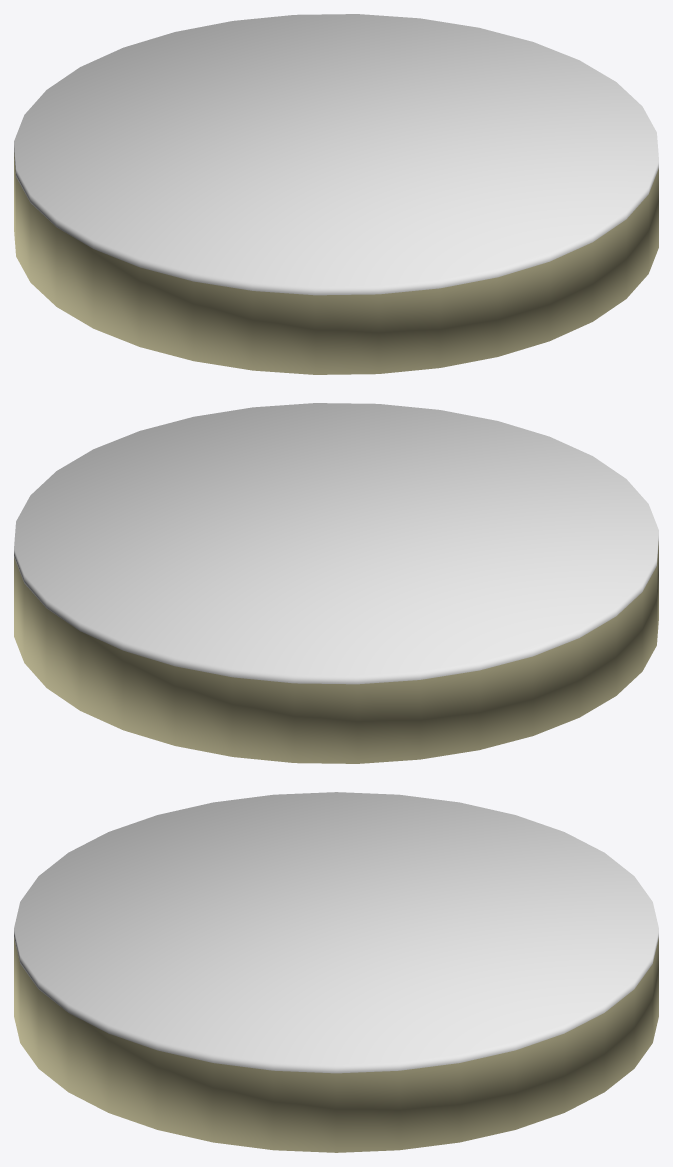
The model's file is Torres 3 plat central.fbx.
3 renders of one model, top to bottom at view 1: azimuth 30°, elevation 25°; view 2: azimuth 150°, elevation 25°; view 3: azimuth 270°, elevation 25°, orthographic.
Parts seen in each view (by area): view 1: Piso; view 2: Piso; view 3: Piso.
Boxes of the visible parts, <box> form: Piso: <box>14,14,658,374</box>; Piso: <box>14,403,658,763</box>; Piso: <box>14,792,658,1152</box>.
Size of the model in its own units: 635 by 95.81 by 635.
